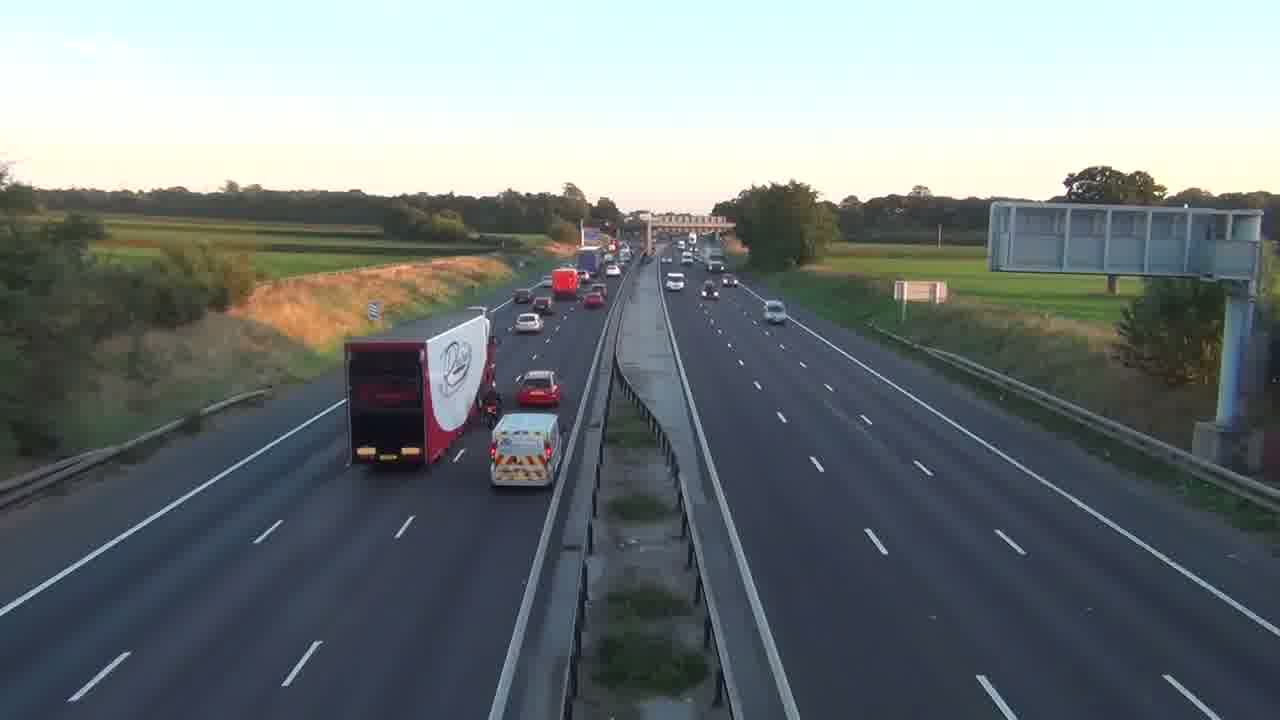car: (488, 411, 561, 488), (513, 369, 562, 408), (512, 311, 542, 334), (764, 300, 787, 320), (582, 289, 605, 308), (665, 272, 685, 292)
truck: (344, 311, 491, 468), (552, 268, 579, 299)
